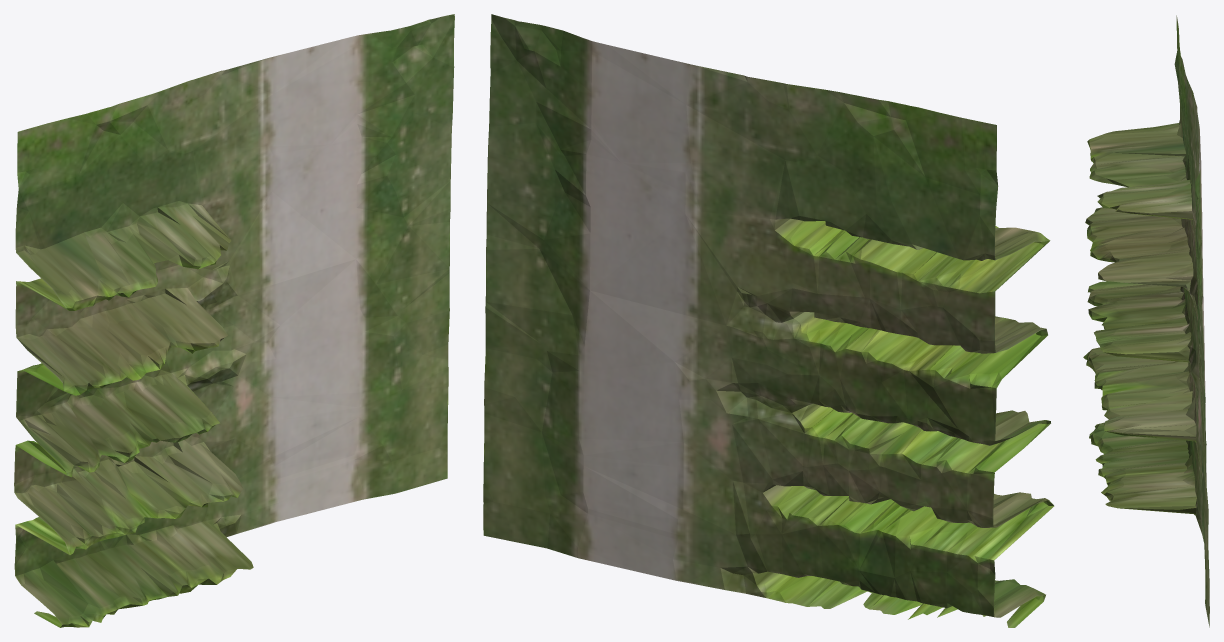
The model's file is map_260_80.obj.
3 renders of one model, left to right at view 1: azimuth 30°, elevation 25°; view 2: azimuth 150°, elevation 25°; view 3: azimuth 270°, elevation 25°, orthographic. The views are drawn at different scales.
Visible parts, largest first — view 1: grp1; view 2: grp1; view 3: grp1.
Boxes of the visible parts, left/top/right/bottom form: grp1: left=14, top=14, right=454, bottom=627; grp1: left=483, top=14, right=1054, bottom=627; grp1: left=1083, top=15, right=1209, bottom=627.
Size of the model in its own units: 10 by 10 by 2.74.
1 material, 1 textured.
